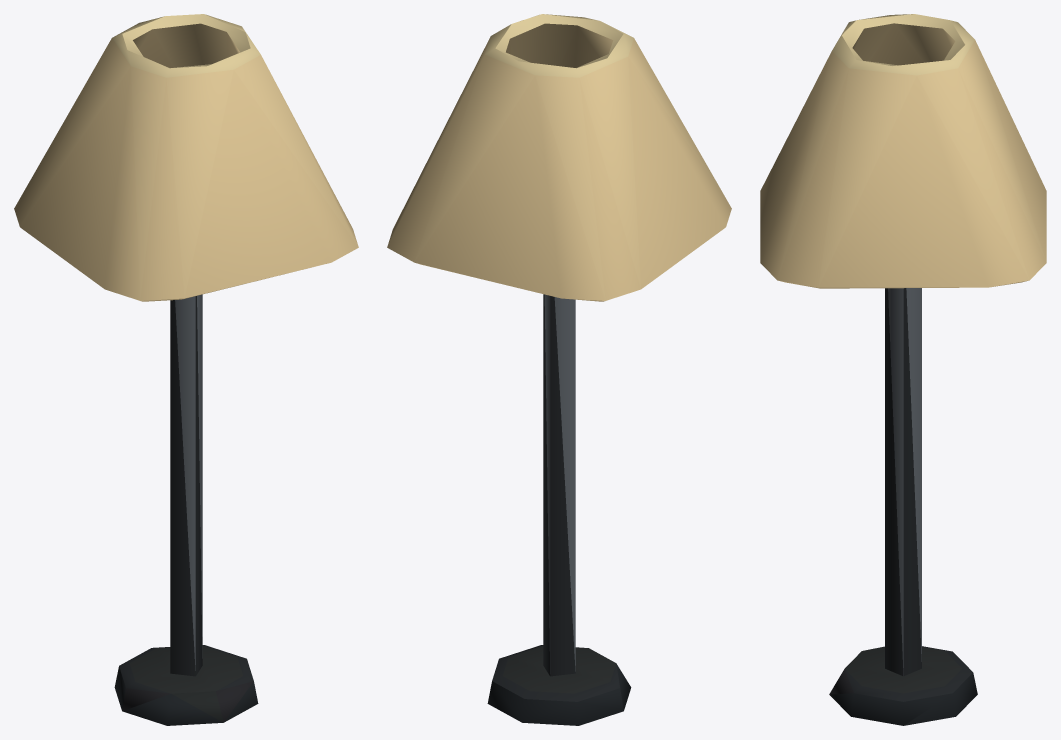
Rendered from floor-lamp.low.1ec3c9e0.glb.
3 renders of one model, left to right at view 1: azimuth 30°, elevation 25°; view 2: azimuth 150°, elevation 25°; view 3: azimuth 270°, elevation 25°, orthographic.
Visible parts, largest first — view 1: floor-lamp; view 2: floor-lamp; view 3: floor-lamp.
Boxes of the visible parts, box(x1,y1,x2,y2) form: floor-lamp: box(14, 14, 358, 725); floor-lamp: box(387, 14, 731, 725); floor-lamp: box(760, 14, 1046, 725).
Size of the model in its own units: 0.6348 by 1.6 by 0.6348.
